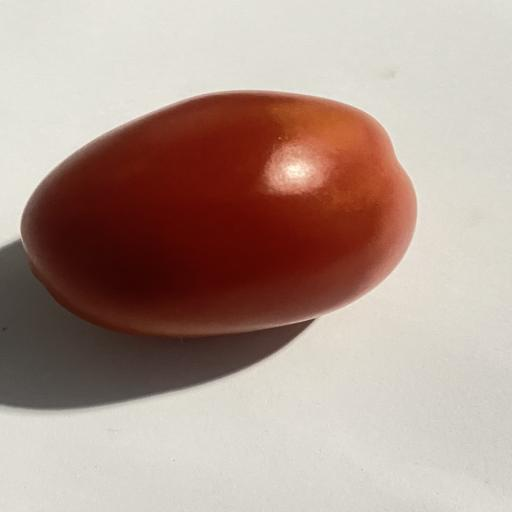ripe: (21, 91, 416, 337)
